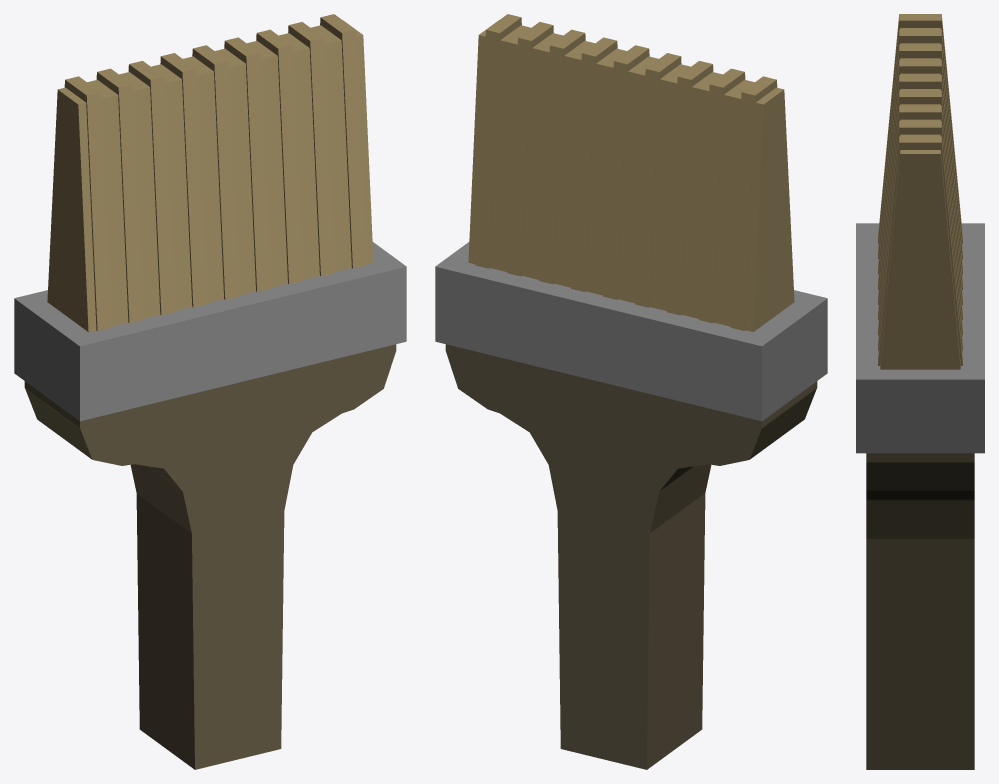
Rendered from paint_brush.obj.
3 views of the same model, side by side, from view 1: azimuth 30°, elevation 25°; view 2: azimuth 150°, elevation 25°; view 3: azimuth 270°, elevation 25° (orthographic). The views are drawn at different scales.
Parts seen in each view (by area): view 1: Cube.001_Cube.002; view 2: Cube.001_Cube.002; view 3: Cube.001_Cube.002.
Part boxes in pixels (x1=…): Cube.001_Cube.002: x1=14, y1=14, x2=406, y2=769; Cube.001_Cube.002: x1=435, y1=14, x2=827, y2=769; Cube.001_Cube.002: x1=856, y1=14, x2=984, y2=769.
Size of the model in its own units: 0.1024 by 0.2049 by 0.0357.
1 material, 1 textured.
